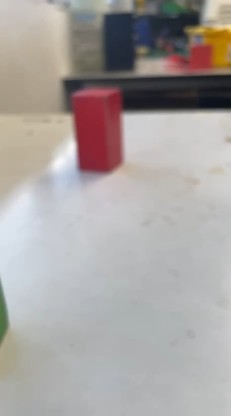green: (0, 199, 36, 364)
